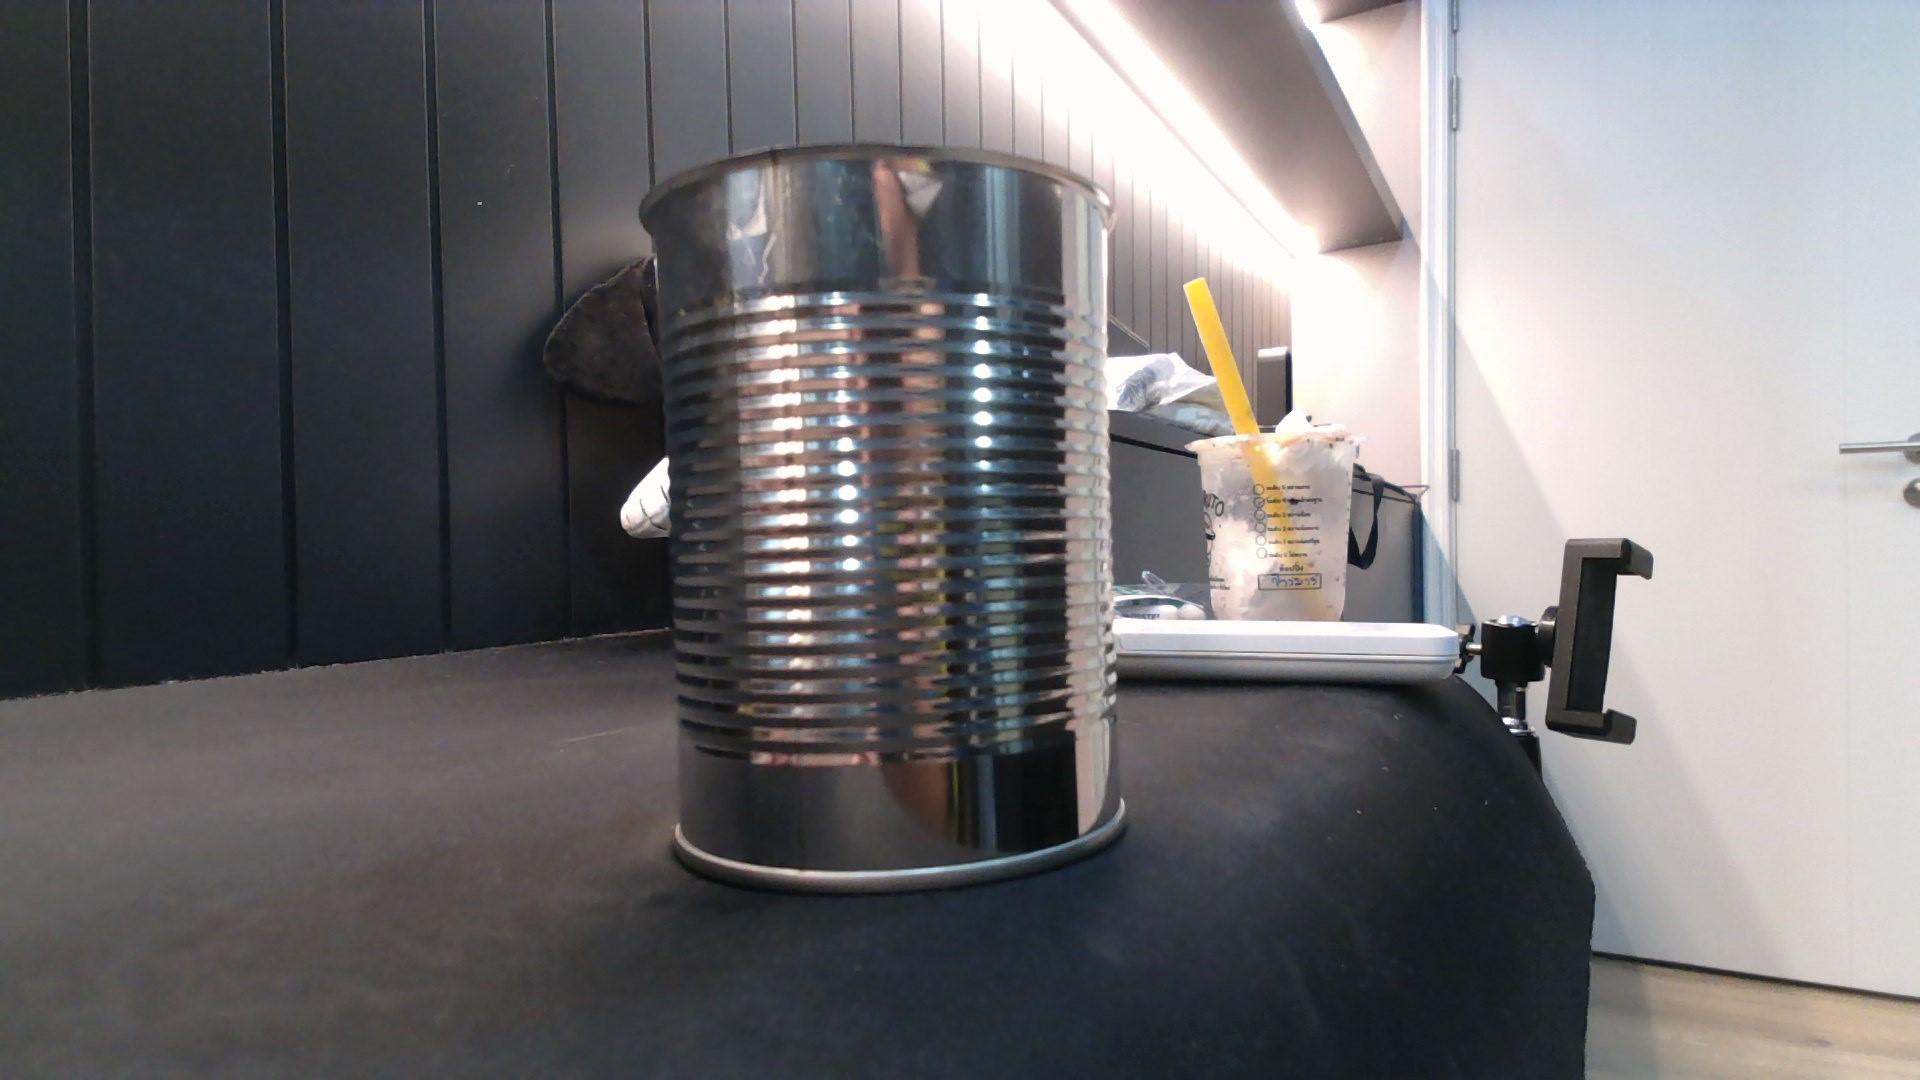metal: (642, 132, 1143, 899)
